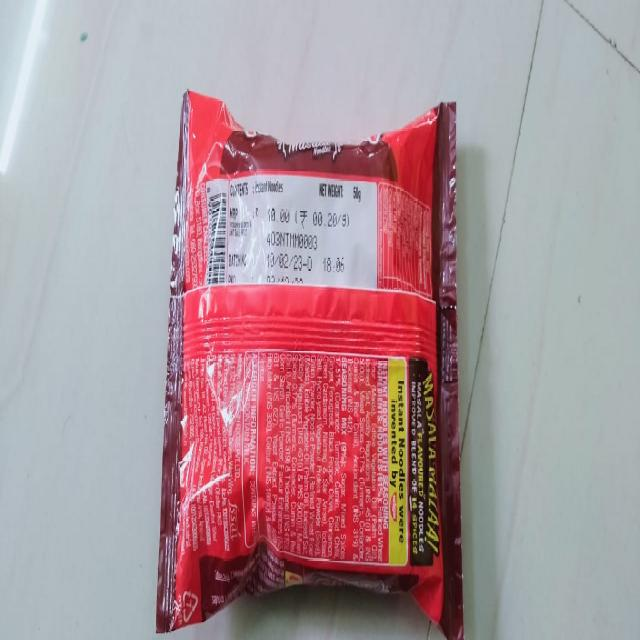maggi: (158, 70, 460, 640)
